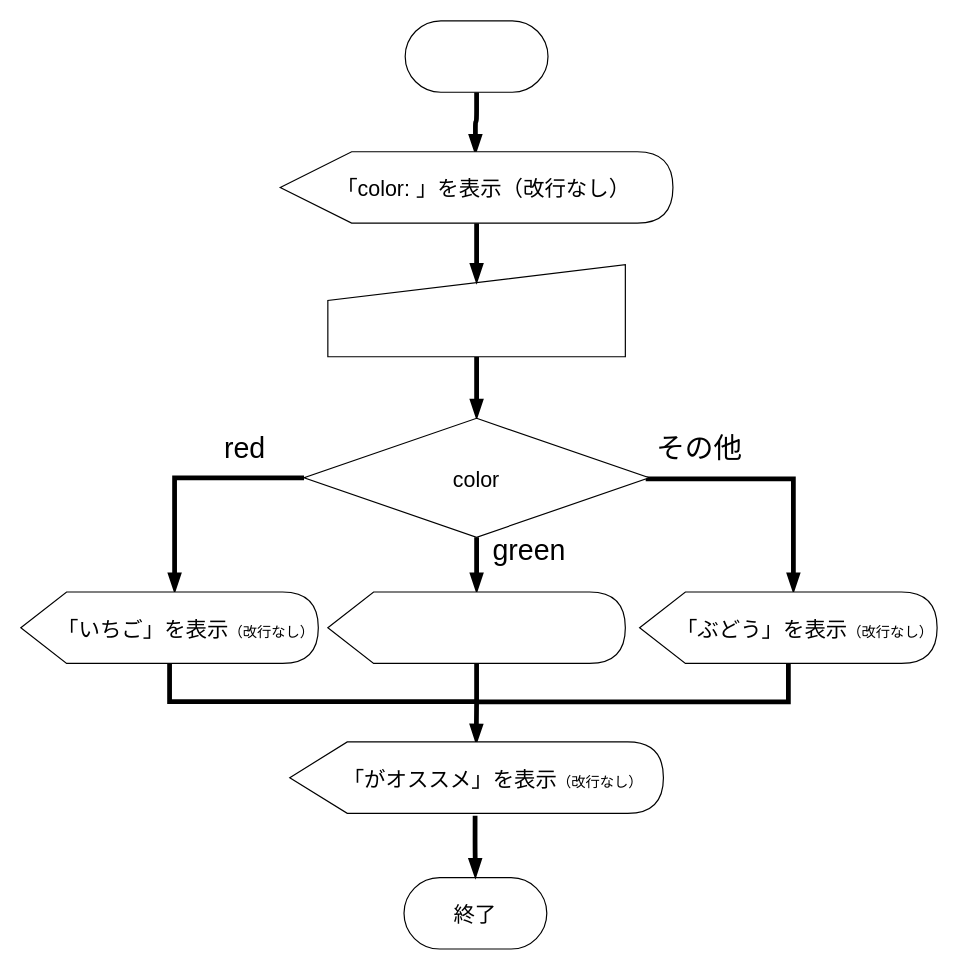
This 958x970 diagram has some shape labels left out. The shapes that lost their labels are listed below. From the top down, each one's centre as x and y in pixels, then its label:
At point 476,56: "開始".
At point 476,310: "color 入力".
At point 476,627: "「メロン」を表示 （改行なし）".
